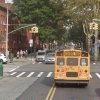buses: (54, 50, 89, 85)
